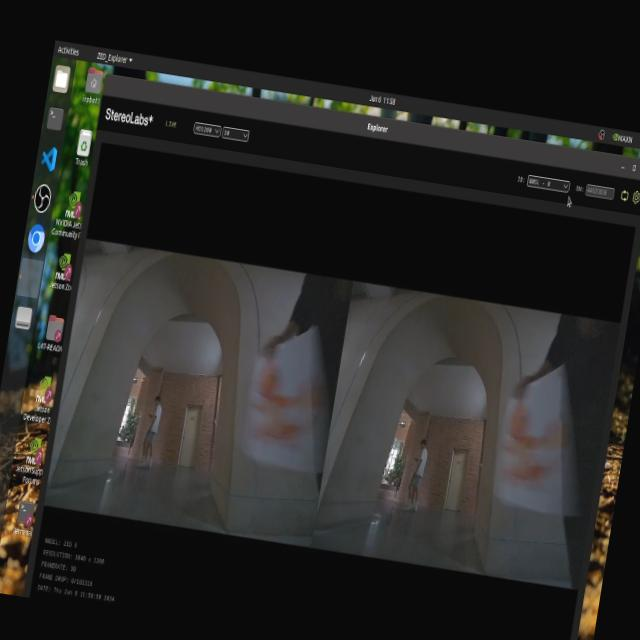red: (239, 322, 343, 467), (490, 396, 580, 498)
